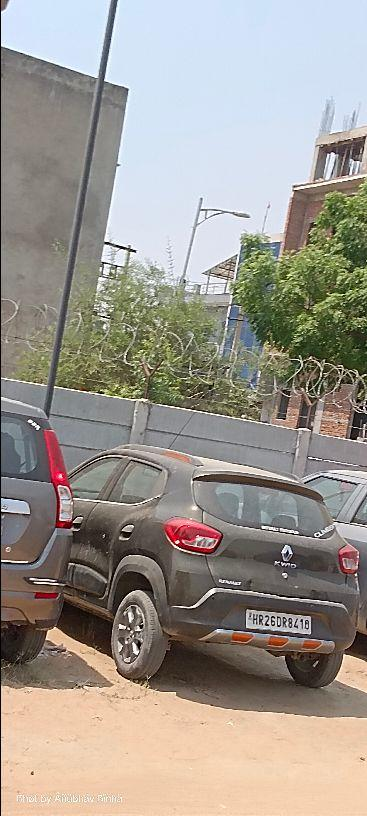license_plate: (243, 607, 312, 635)
